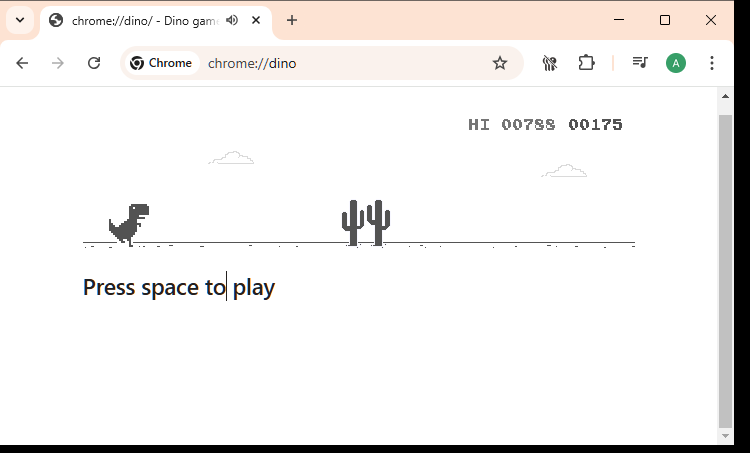cactus: (365, 198, 391, 247), (341, 199, 365, 248)
dino: (107, 202, 150, 248)
